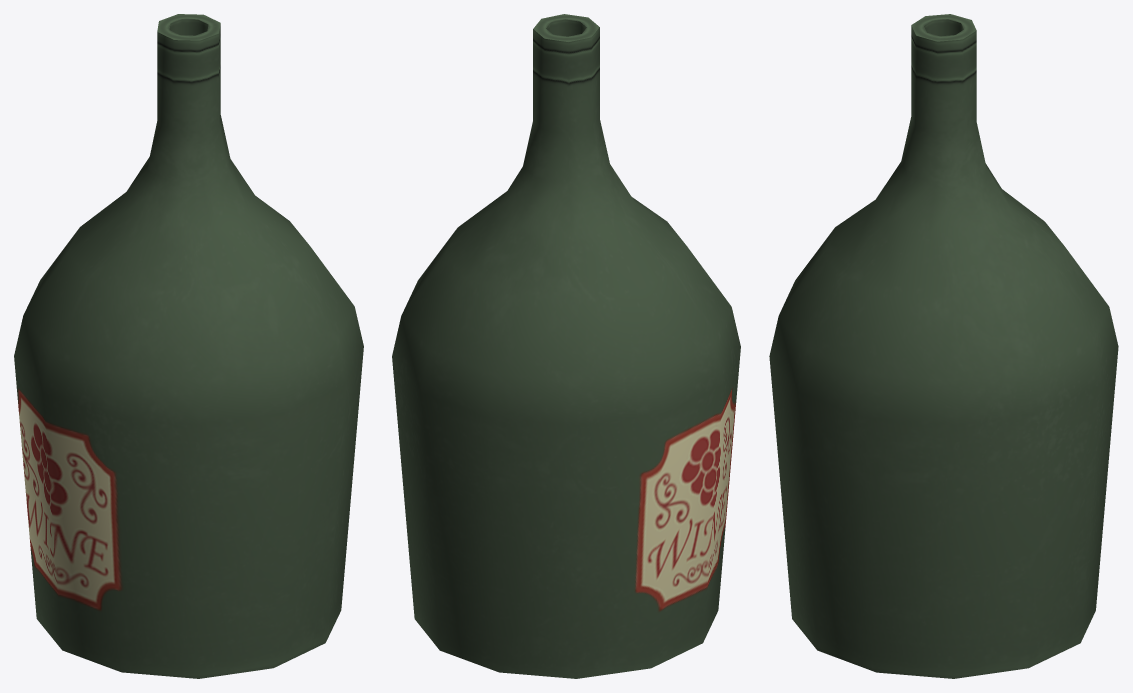
The model's file is LOD1_bigBottle_wLabel.fbx.
3 renders of one model, left to right at view 1: azimuth 30°, elevation 25°; view 2: azimuth 150°, elevation 25°; view 3: azimuth 270°, elevation 25°, orthographic.
Parts seen in each view (by area): view 1: LOD1_bigBottle_wLabel; view 2: LOD1_bigBottle_wLabel; view 3: LOD1_bigBottle_wLabel.
Part boxes in pixels (<box>): LOD1_bigBottle_wLabel: <box>14,14,363,678</box>; LOD1_bigBottle_wLabel: <box>392,14,740,678</box>; LOD1_bigBottle_wLabel: <box>769,14,1118,678</box>.
Bounding box in the file's own units: 0.2169 × 0.4024 × 0.2169.
